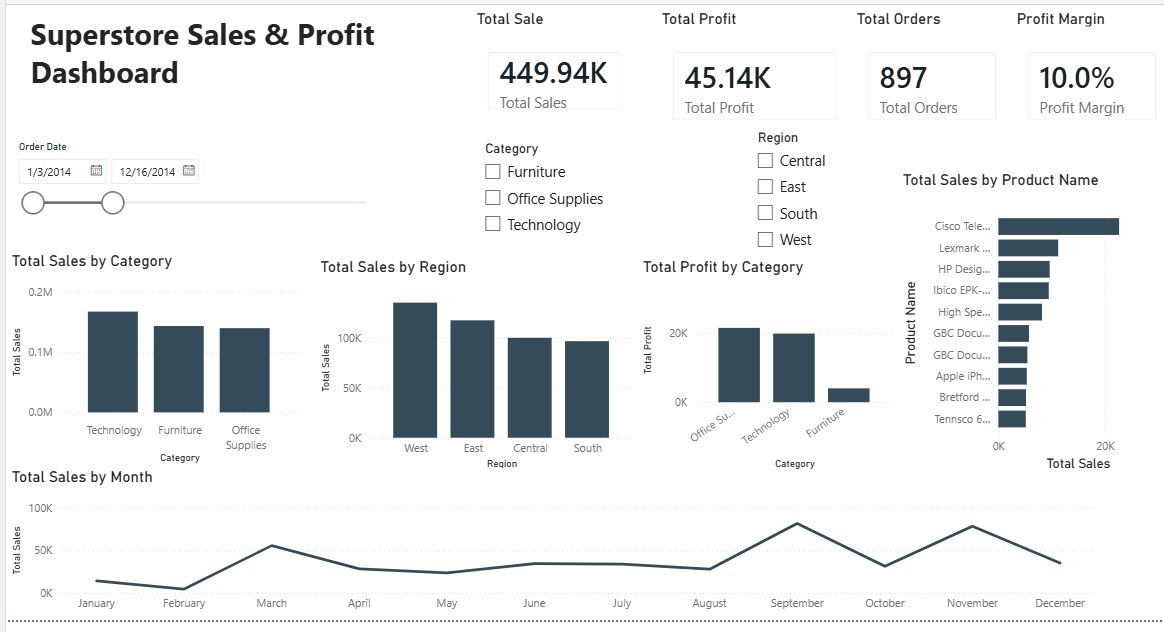

This screenshot's page, from the dashboard's own definition file:
{"tool":"powerbi","page":{"name":"Page 1","canvas":[1280,720],"ordinal":0},"visuals":[{"type":"cardVisual","title":"Total Sale","fields":{"Data":["SalesData.Total Sales"]},"box":[511.8,49.4,182.5,127.6],"z":0},{"type":"cardVisual","title":"Total Profit","fields":{"Data":["SalesData.Total Profit"]},"box":[714.9,49.4,214.1,140],"z":1000},{"type":"cardVisual","title":"Total Orders","fields":{"Data":["SalesData.Total Orders"]},"box":[929,49.4,175.6,140],"z":2000},{"type":"cardVisual","title":"Profit Margin","fields":{"Data":["SalesData.Profit Margin"]},"box":[1104.6,49.4,175.6,140],"z":3000},{"type":"clusteredColumnChart","fields":{"Category":["SalesData.Category"],"Y":["SalesData.Total Sales"]},"box":[1.4,315.6,325.2,237.4],"z":4000},{"type":"clusteredColumnChart","fields":{"Category":["SalesData.Region"],"Y":["SalesData.Total Sales"]},"box":[340.3,322.5,354,237.4],"z":5000},{"type":"lineChart","fields":{"Category":["SalesData.Order Date.Variation.Date Hierarchy.Month"],"Y":["SalesData.Total Sales"]},"box":[1.4,553,1199.3,167.4],"z":6000},{"type":"clusteredColumnChart","fields":{"Category":["SalesData.Category"],"Y":["SalesData.Total Profit"]},"box":[694.3,322.5,285.4,237.4],"z":7000},{"type":"clusteredBarChart","fields":{"Category":["SalesData.Product Name"],"Y":["SalesData.Total Sales"]},"box":[979.8,226.4,300.5,334.8],"z":8000},{"type":"slicer","fields":{"Values":["SalesData.Order Date"]},"box":[1.4,189.4,417.2,116.6],"z":9000},{"type":"slicer","fields":{"Values":["SalesData.Category"]},"box":[513.2,189.4,174.3,116.6],"z":10000},{"type":"slicer","fields":{"Values":["SalesData.Region"]},"box":[812.4,177,146.8,148.2],"z":11000},{"type":"textbox","box":[22,49.4,406.2,118],"z":11001}]}

Visuals, with their boxes on the page's 1280x720 design canvas (x1, y1, x2, y2). These are canvas units, not pixel positions in the 1164x632 screenshot, which may show the page scaled, cropped or inside an application window:
"Total Sale" cardVisual: [512, 49, 694, 177]
"Total Profit" cardVisual: [715, 49, 929, 189]
"Total Orders" cardVisual: [929, 49, 1105, 189]
"Profit Margin" cardVisual: [1105, 49, 1280, 189]
clusteredColumnChart - SalesData.Category x SalesData.Total Sales: [1, 316, 327, 553]
clusteredColumnChart - SalesData.Region x SalesData.Total Sales: [340, 322, 694, 560]
lineChart - SalesData.Order Date.Variation.Date Hierarchy.Month x SalesData.Total Sales: [1, 553, 1201, 720]
clusteredColumnChart - SalesData.Category x SalesData.Total Profit: [694, 322, 980, 560]
clusteredBarChart - SalesData.Product Name x SalesData.Total Sales: [980, 226, 1280, 561]
slicer - SalesData.Order Date: [1, 189, 419, 306]
slicer - SalesData.Category: [513, 189, 688, 306]
slicer - SalesData.Region: [812, 177, 959, 325]
textbox: [22, 49, 428, 167]
